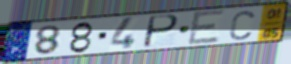4: (109, 16, 138, 52)
8: (33, 24, 64, 55), (69, 21, 94, 54)
C: (228, 9, 256, 42)
E: (187, 9, 227, 47)
P: (141, 13, 181, 49)
